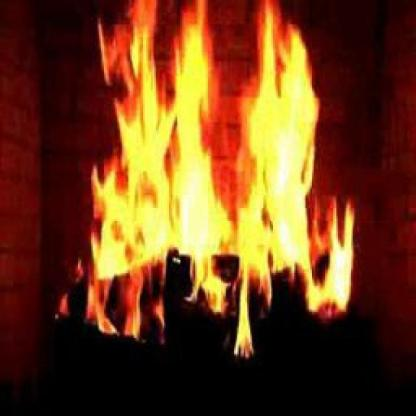fire: (54, 0, 357, 366)
